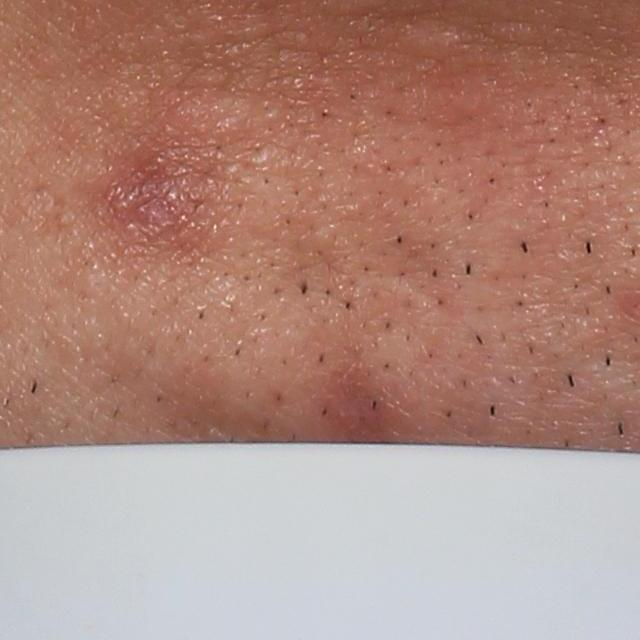hypertrophic_scar: (165, 91, 263, 139), (390, 22, 463, 61)
